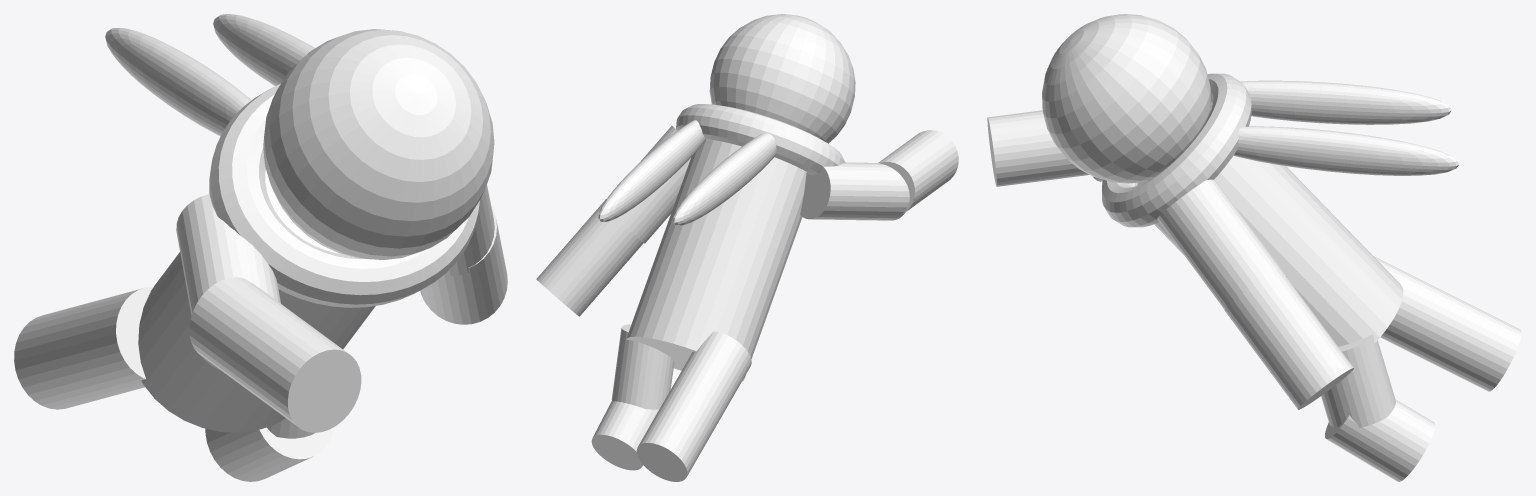
The model's file is maehitoAt.obj.
3 views of the same model, side by side, from view 1: azimuth 30°, elevation 25°; view 2: azimuth 150°, elevation 25°; view 3: azimuth 270°, elevation 25° (orthographic). The views are drawn at different scales.
Visible parts, largest first — view 1: 球_球.001, トーラス, 円柱.002, 円柱, 立方体.001_立方体.002, 円柱.008_円柱.009, 円柱.009_円柱.011, 円柱.004_円柱.008, 円柱.006, 円柱.011_円柱.013, 立方体_立方体.001, 円柱.010_円柱.012 (+1 smaller); view 2: 円柱, 球_球.001, 円柱.011_円柱.013, 円柱.009_円柱.011, 円柱.004_円柱.008, トーラス, 立方体_立方体.001, 立方体.001_立方体.002, 円柱.008_円柱.009, 円柱.003, 円柱.002, 円柱.006 (+1 smaller); view 3: 球_球.001, 円柱, 円柱.011_円柱.013, 円柱.010_円柱.012, トーラス, 立方体_立方体.001, 立方体.001_立方体.002, 円柱.004_円柱.008, 円柱.002, 円柱.006, 円柱.003, 円柱.008_円柱.009.
Boxes of the visible parts, left/top/right/bottom form: 球_球.001: left=263, top=29, right=494, bottom=259; トーラス: left=209, top=84, right=479, bottom=307; 円柱.002: left=189, top=277, right=361, bottom=432; 円柱: left=138, top=170, right=375, bottom=432; 立方体.001_立方体.002: left=105, top=28, right=251, bottom=136; 円柱.008_円柱.009: left=64, top=287, right=153, bottom=395; 円柱.009_円柱.011: left=176, top=194, right=280, bottom=370; 円柱.004_円柱.008: left=14, top=302, right=115, bottom=409; 円柱.006: left=205, top=427, right=334, bottom=481; 円柱.011_円柱.013: left=420, top=205, right=507, bottom=324; 立方体_立方体.001: left=213, top=14, right=314, bottom=85; 円柱.010_円柱.012: left=444, top=185, right=494, bottom=275; 円柱: left=626, top=139, right=806, bottom=381; 球_球.001: left=709, top=14, right=855, bottom=143; 円柱.011_円柱.013: left=536, top=199, right=643, bottom=316; 円柱.009_円柱.011: left=800, top=162, right=909, bottom=220; 円柱.004_円柱.008: left=636, top=386, right=719, bottom=481; トーラス: left=676, top=104, right=845, bottom=175; 立方体_立方体.001: left=598, top=120, right=706, bottom=222; 立方体.001_立方体.002: left=672, top=133, right=776, bottom=225; 円柱.008_円柱.009: left=670, top=331, right=751, bottom=421; 円柱.003: left=611, top=324, right=674, bottom=409; 円柱.002: left=878, top=130, right=958, bottom=214; 円柱.006: left=591, top=400, right=659, bottom=470; 球_球.001: left=1042, top=14, right=1211, bottom=183; 円柱: left=1137, top=110, right=1403, bottom=346; 円柱.011_円柱.013: left=1224, top=269, right=1353, bottom=409; 円柱.010_円柱.012: left=1157, top=179, right=1286, bottom=309; トーラス: left=1102, top=73, right=1251, bottom=227; 立方体_立方体.001: left=1233, top=126, right=1458, bottom=175; 立方体.001_立方体.002: left=1241, top=80, right=1451, bottom=124; 円柱.004_円柱.008: left=1414, top=292, right=1521, bottom=391; 円柱.002: left=987, top=110, right=1089, bottom=186; 円柱.006: left=1325, top=399, right=1435, bottom=481; 円柱.003: left=1321, top=334, right=1395, bottom=428; 円柱.008_円柱.009: left=1373, top=256, right=1447, bottom=353.
Size of the model in its own units: 4.53 by 5.64 by 6.29.
Materials: 1 (1 with a texture image).
